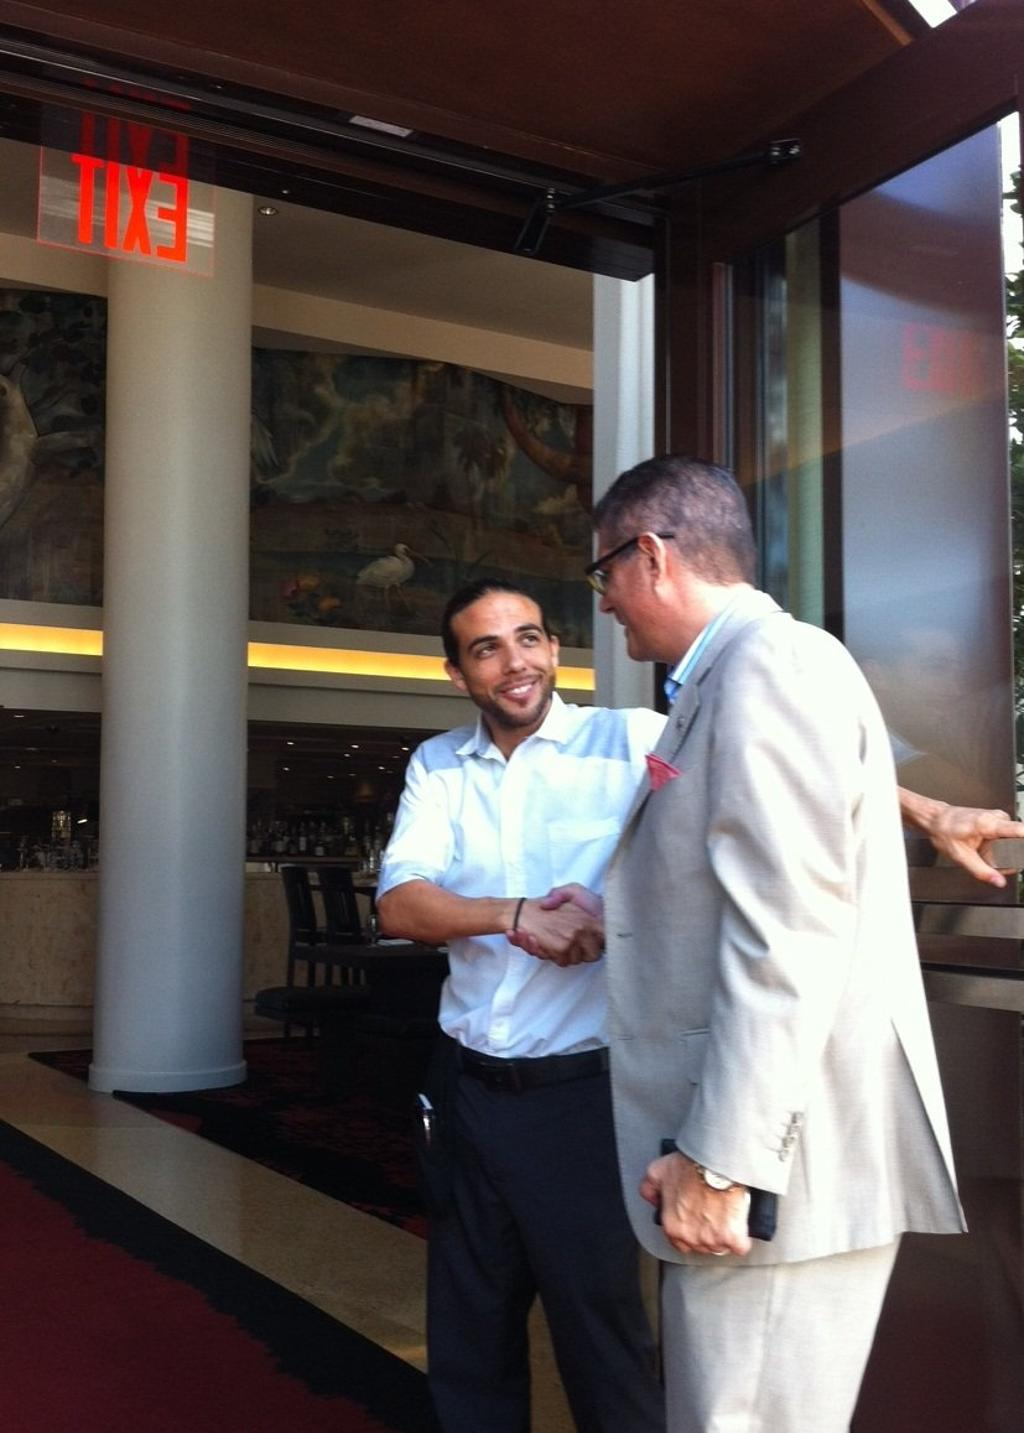face: (456, 596, 560, 725), (602, 512, 661, 663)
